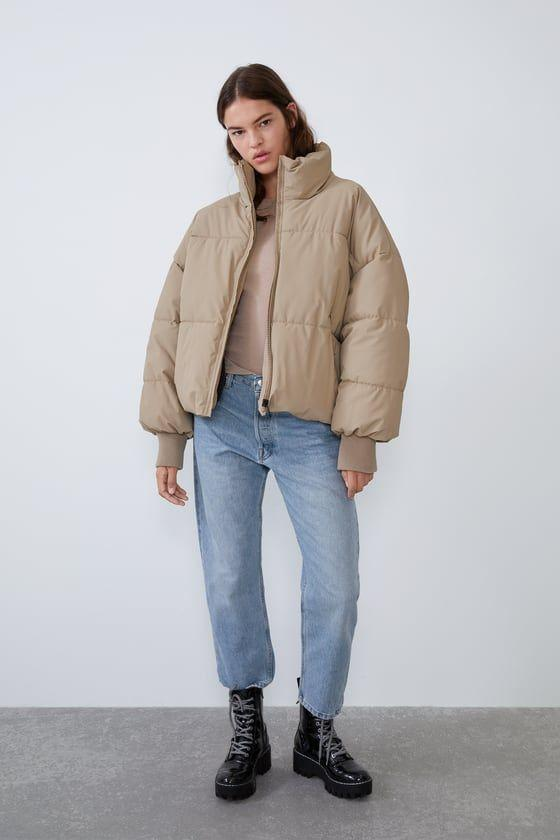coat: (135, 139, 413, 478)
trousers: (189, 368, 362, 720)
